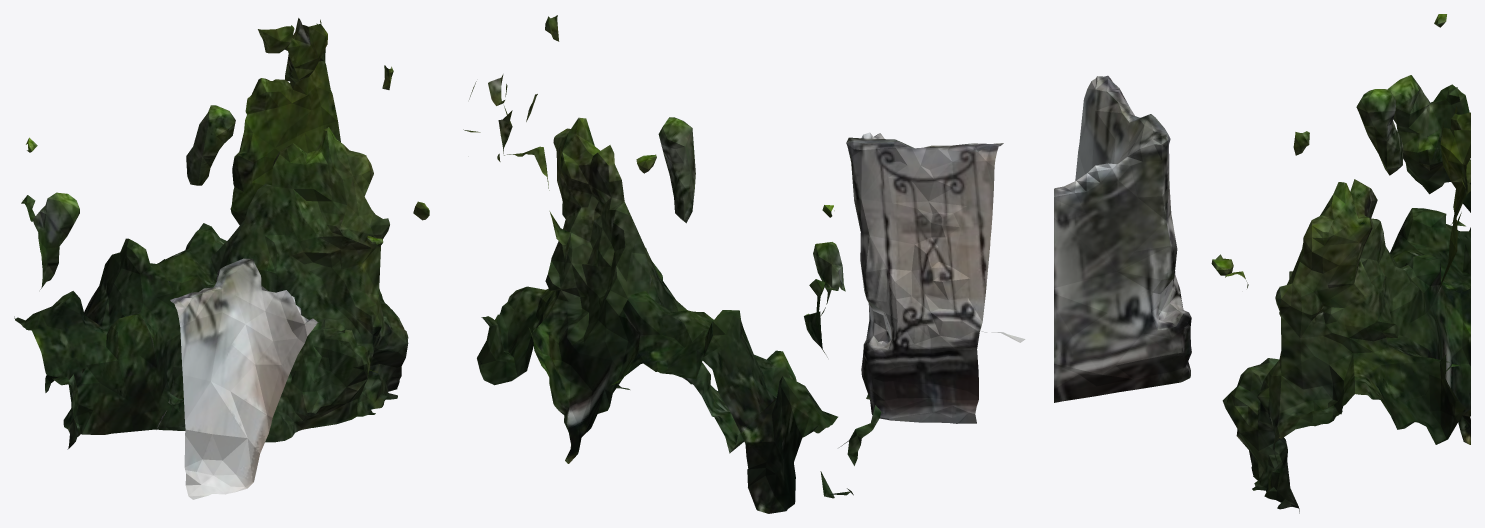
3 views of the same model, side by side, from view 1: azimuth 30°, elevation 25°; view 2: azimuth 150°, elevation 25°; view 3: azimuth 270°, elevation 25° (orthographic). The views are drawn at different scales.
Size of the model in its own units: 1.67 by 1.67 by 1.67.
5 materials, 5 textured.
